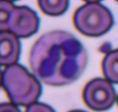N: (29, 29, 88, 85)
